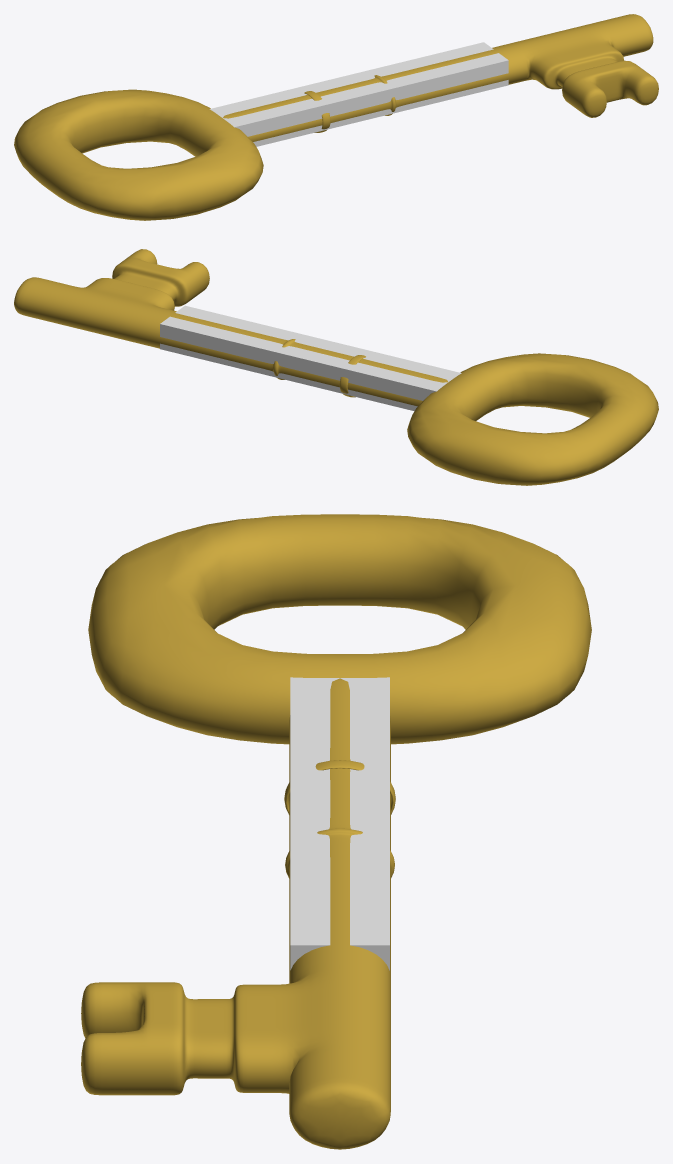
The model's file is Key02.fbx.
3 views of the same model, one above another, from view 1: azimuth 30°, elevation 25°; view 2: azimuth 150°, elevation 25°; view 3: azimuth 270°, elevation 25° (orthographic). The views are drawn at different scales.
Visible parts, largest first — view 1: Plane, Circle, Cube; view 2: Plane, Circle, Cube; view 3: Plane, Circle, Cube.
Part boxes in pixels (<box>): Plane: <box>14,89,263,220</box>; Circle: <box>223,14,658,141</box>; Cube: <box>209,42,508,146</box>; Plane: <box>407,353,658,485</box>; Circle: <box>14,249,447,406</box>; Cube: <box>160,305,461,411</box>; Plane: <box>88,514,591,744</box>; Circle: <box>81,678,395,1149</box>; Cube: <box>290,677,389,970</box>.
Bounding box in the file's own units: 742 × 52.65 × 273.
